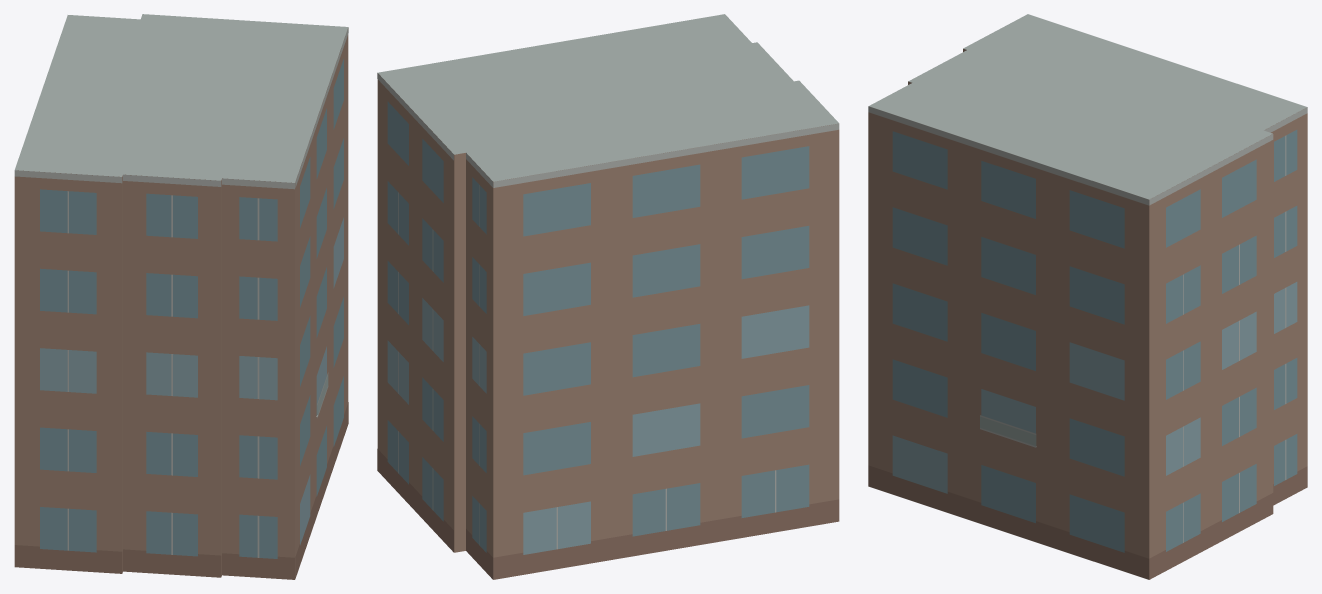
File: survey-upis-32621433.glb
3 views of the same model, side by side, from view 1: azimuth 30°, elevation 25°; view 2: azimuth 150°, elevation 25°; view 3: azimuth 270°, elevation 25° (orthographic). The views are drawn at different scales.
Visible parts, largest first — view 1: survey-upis-32621433.tmp; view 2: survey-upis-32621433.tmp; view 3: survey-upis-32621433.tmp.
Boxes of the visible parts, bbox=[...] form: survey-upis-32621433.tmp: bbox=[14, 14, 348, 579]; survey-upis-32621433.tmp: bbox=[377, 14, 839, 579]; survey-upis-32621433.tmp: bbox=[868, 14, 1307, 579].
Size of the model in its own units: 16.19 by 15.45 by 16.18.
